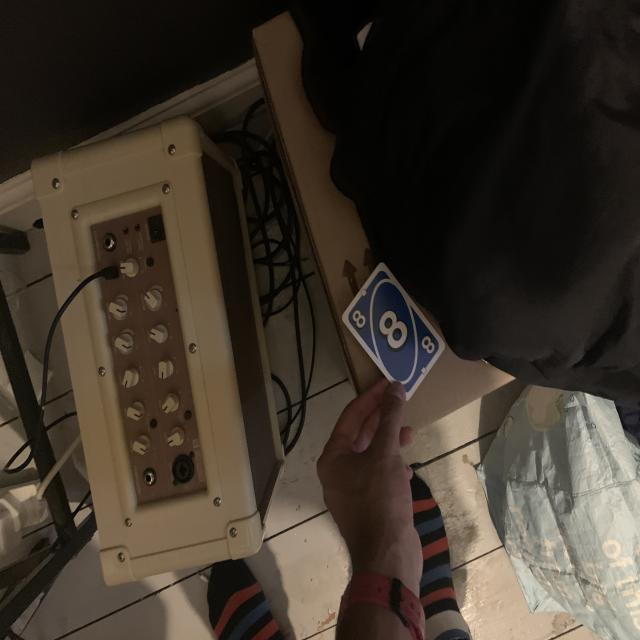lblue-8: (349, 304, 372, 335)
